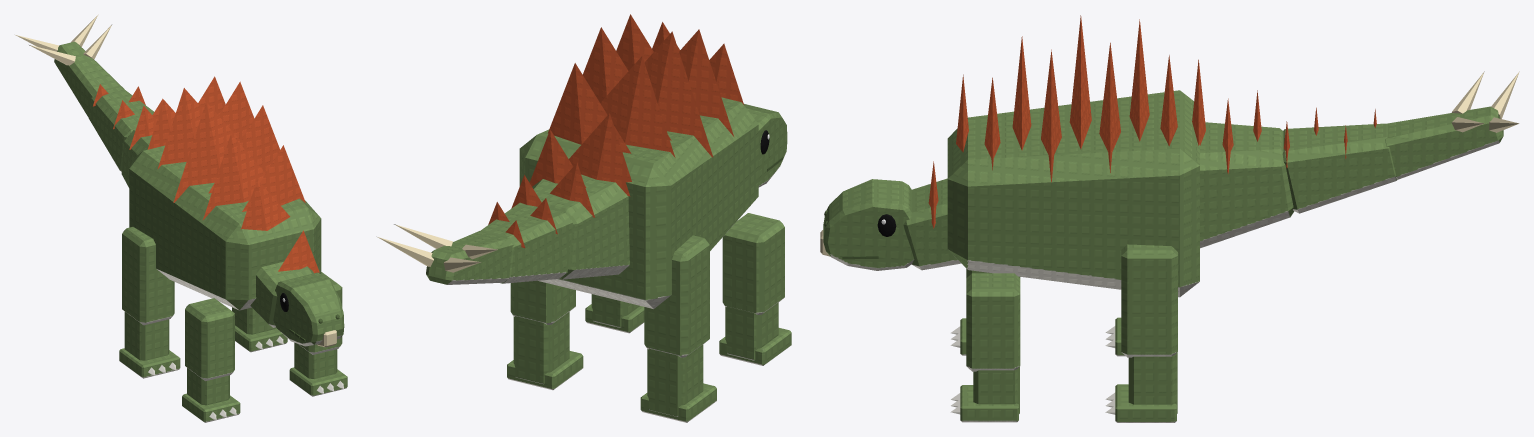
The model's file is 10_Stegosaurus.glb.
3 renders of one model, left to right at view 1: azimuth 30°, elevation 25°; view 2: azimuth 150°, elevation 25°; view 3: azimuth 270°, elevation 25°, orthographic. The views are drawn at different scales.
Visible parts, largest first — view 1: 10_Stegosaurus; view 2: 10_Stegosaurus; view 3: 10_Stegosaurus.
Part boxes in pixels (<box>): 10_Stegosaurus: <box>15,14,347,422</box>; 10_Stegosaurus: <box>377,14,791,422</box>; 10_Stegosaurus: <box>820,15,1519,422</box>.
Size of the model in its own units: 3.36 by 6.09 by 10.98.
Materials: 1 (1 with a texture image).
